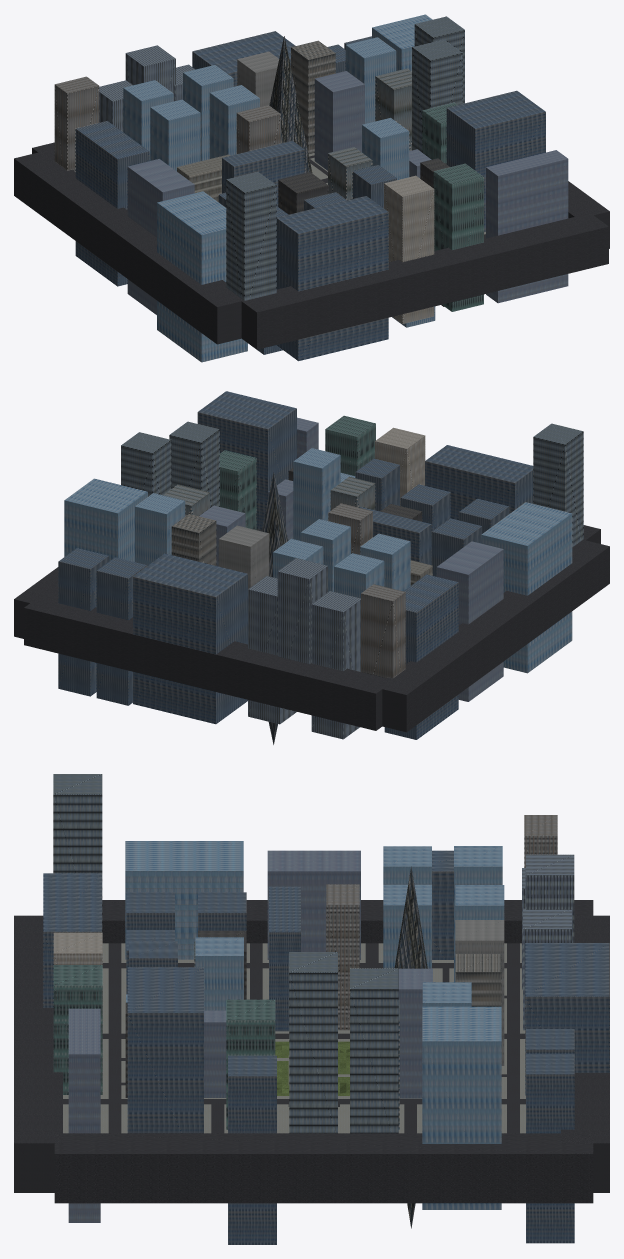
The picture shows the model from 3 angles, top to bottom: view 1: azimuth 30°, elevation 25°; view 2: azimuth 150°, elevation 25°; view 3: azimuth 270°, elevation 25°; orthographic projection. The views are drawn at different scales.
Visible parts, largest first — view 1: Box23, Box24, Box10, Box37, Box41, Box11, Box38, Box43, Box40, Box39, Box1, Box9 (+25 smaller); view 2: Box22, Box24, Box26, Box37, Box11, Box10, Box30, Box43, Box38, Box27, Box36, Box28 (+30 smaller); view 3: Box25, Box11, Box30, Box23, Box26, Box9, road1, Box31, Box37, Plane, Box32, Box45 (+32 smaller).
Part boxes in pixels (x1,y1,x2,y2): Box23: [241, 215, 608, 349]; Box24: [14, 152, 243, 344]; Box10: [276, 196, 388, 361]; Box37: [157, 191, 247, 362]; Box41: [486, 150, 568, 303]; Box11: [446, 90, 545, 232]; Box38: [226, 171, 276, 300]; Box43: [75, 121, 149, 286]; Box40: [433, 163, 483, 311]; Box39: [384, 175, 434, 323]; Box1: [314, 71, 364, 170]; Box9: [412, 39, 462, 152]; Box22: [24, 594, 394, 730]; Box24: [376, 539, 609, 732]; Box26: [133, 553, 247, 724]; Box37: [481, 502, 572, 673]; Box11: [197, 391, 296, 531]; Box10: [425, 445, 533, 520]; Box30: [64, 478, 147, 561]; Box43: [384, 574, 458, 739]; Box38: [533, 423, 583, 547]; Box27: [311, 591, 360, 739]; Box36: [436, 541, 503, 701]; Box28: [277, 558, 327, 664]; Box25: [54, 1133, 593, 1203]; Box11: [127, 967, 203, 1133]; Box30: [422, 1006, 501, 1209]; Box23: [14, 915, 62, 1192]; Box26: [525, 943, 609, 1095]; Box9: [289, 952, 337, 1133]; road1: [63, 943, 525, 1133]; Box31: [350, 968, 398, 1133]; Box37: [125, 841, 243, 959]; Plane: [63, 943, 525, 1133]; Box32: [228, 1055, 276, 1244]; Box45: [526, 1053, 574, 1243].
Bounding box in the file's own units: 46.75 × 31.24 × 46.35.
Materials: 17 (17 with a texture image).
